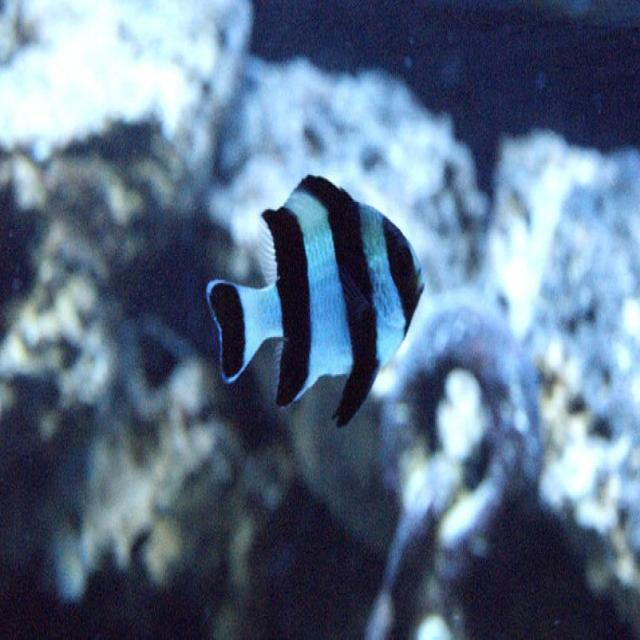ThreeStripedDamselfish: (205, 175, 425, 430)
